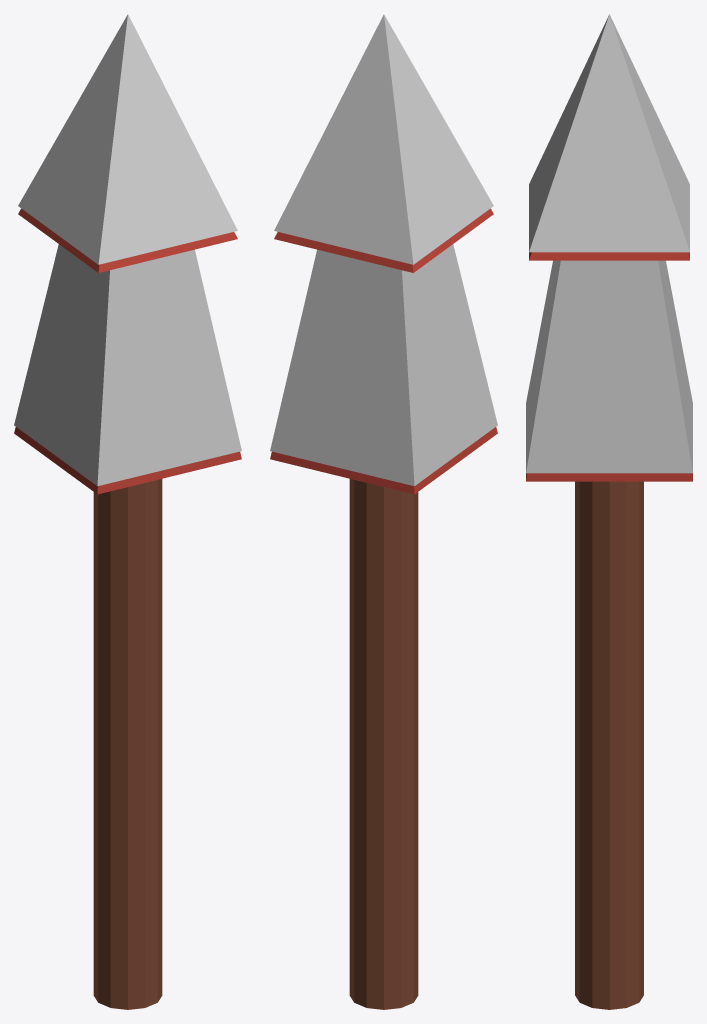
File: Tree_16_winter_red_mat.fbx
The picture shows the model from 3 angles, left to right: view 1: azimuth 30°, elevation 25°; view 2: azimuth 150°, elevation 25°; view 3: azimuth 270°, elevation 25°; orthographic projection.
Visible parts, largest first — view 1: Tree_16_winter_red_mat; view 2: Tree_16_winter_red_mat; view 3: Tree_16_winter_red_mat.
Part boxes in pixels (box(x1,y1,x2,y2)): Tree_16_winter_red_mat: box(14, 14, 241, 1009); Tree_16_winter_red_mat: box(270, 14, 497, 1009); Tree_16_winter_red_mat: box(526, 14, 692, 1009).
Bounding box in the file's own units: 53.67 × 348 × 53.67.
